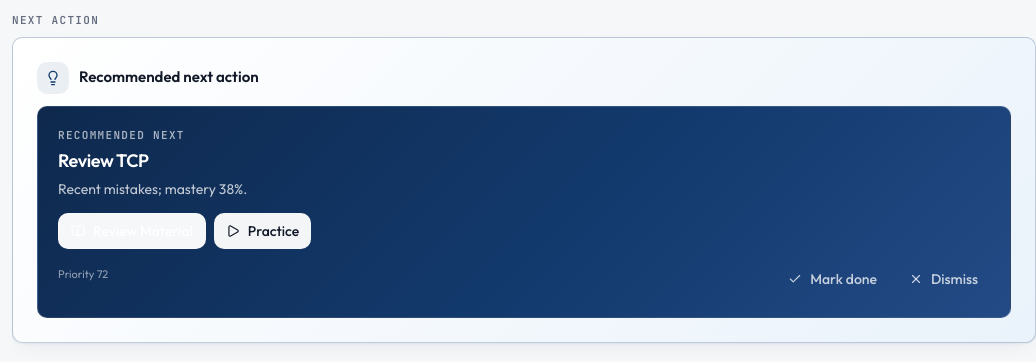
RecommendationsSection › completes and dismisses through the server
The width and height of the screenshot is (1036, 362).
Expected: the text "Review TCP" is shown, [58,149,149,172]
Click the button "Mark done" at (833, 278), box [776,260,889,296]
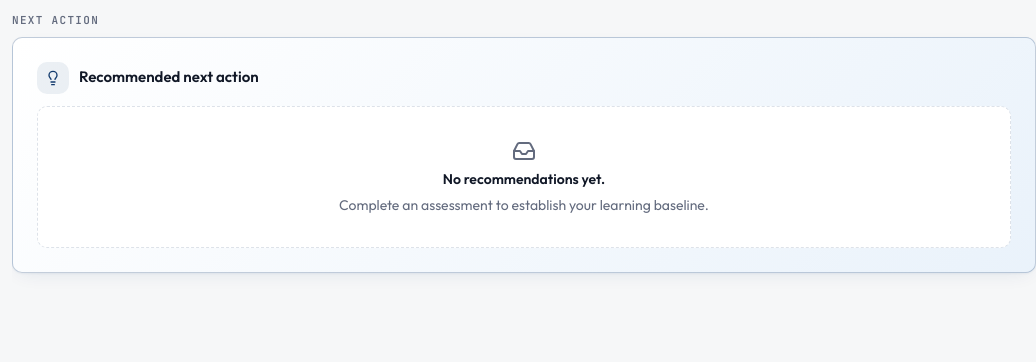
Now the text "No recommendations yet." is shown, box [443,168,605,188]
